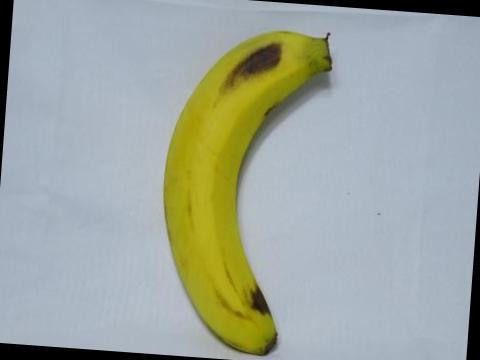freshripe: (155, 19, 330, 357)
